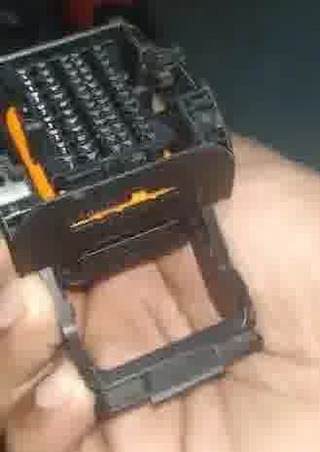connector: (1, 17, 234, 279)
